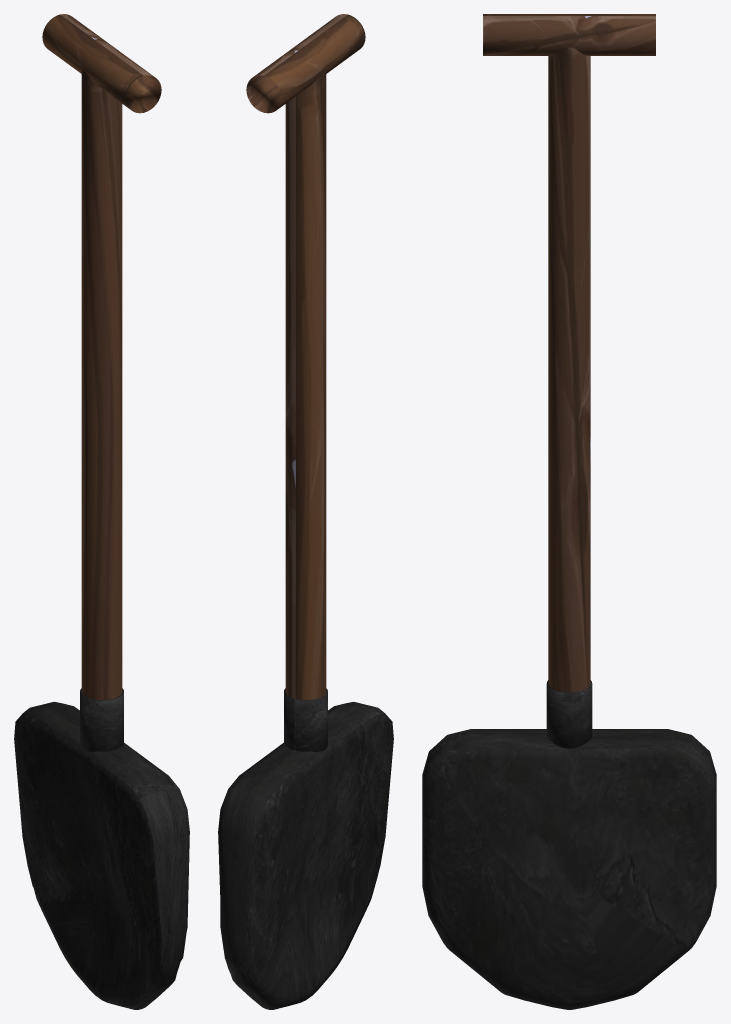
Rendered from shovel.fbx.
The picture shows the model from 3 angles, left to right: view 1: azimuth 30°, elevation 25°; view 2: azimuth 150°, elevation 25°; view 3: azimuth 270°, elevation 25°; orthographic projection. The views are drawn at different scales.
Visible parts, largest first — view 1: Cube, Cylinder.001, Cylinder.002, Cylinder; view 2: Cube, Cylinder.001, Cylinder.002, Cylinder; view 3: Cube, Cylinder.001, Cylinder.002, Cylinder.
Part boxes in pixels (bbox=[...]): Cube: bbox=[14, 701, 189, 1009]; Cylinder.001: bbox=[81, 70, 122, 699]; Cylinder.002: bbox=[42, 14, 161, 113]; Cylinder: bbox=[80, 688, 123, 751]; Cube: bbox=[218, 701, 393, 1009]; Cylinder.001: bbox=[285, 70, 326, 699]; Cylinder.002: bbox=[246, 14, 365, 113]; Cylinder: bbox=[284, 688, 327, 751]; Cube: bbox=[422, 729, 716, 1009]; Cylinder.001: bbox=[548, 47, 590, 692]; Cylinder.002: bbox=[483, 14, 655, 55]; Cylinder: bbox=[546, 680, 592, 748].
Size of the model in its own units: 46.39 by 742 by 200.
